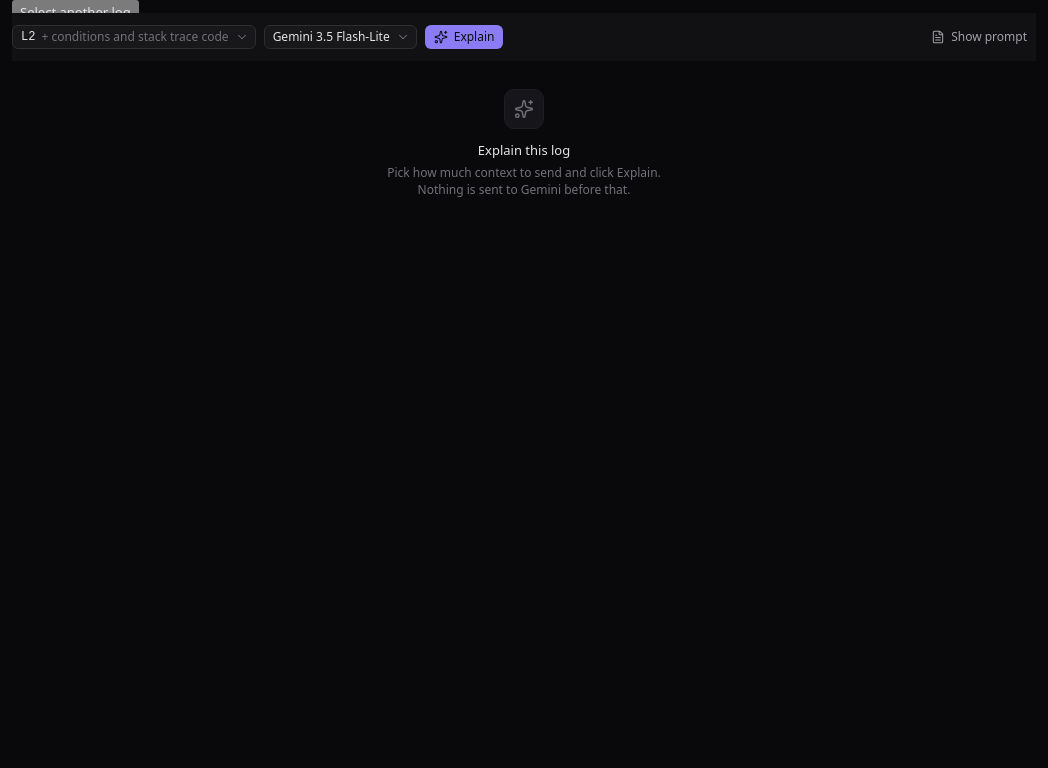
explain tab › "Stop" aborts the request and keeps the text so far
Click the button "Explain".
click(464, 37)  # box [425,25,504,49]
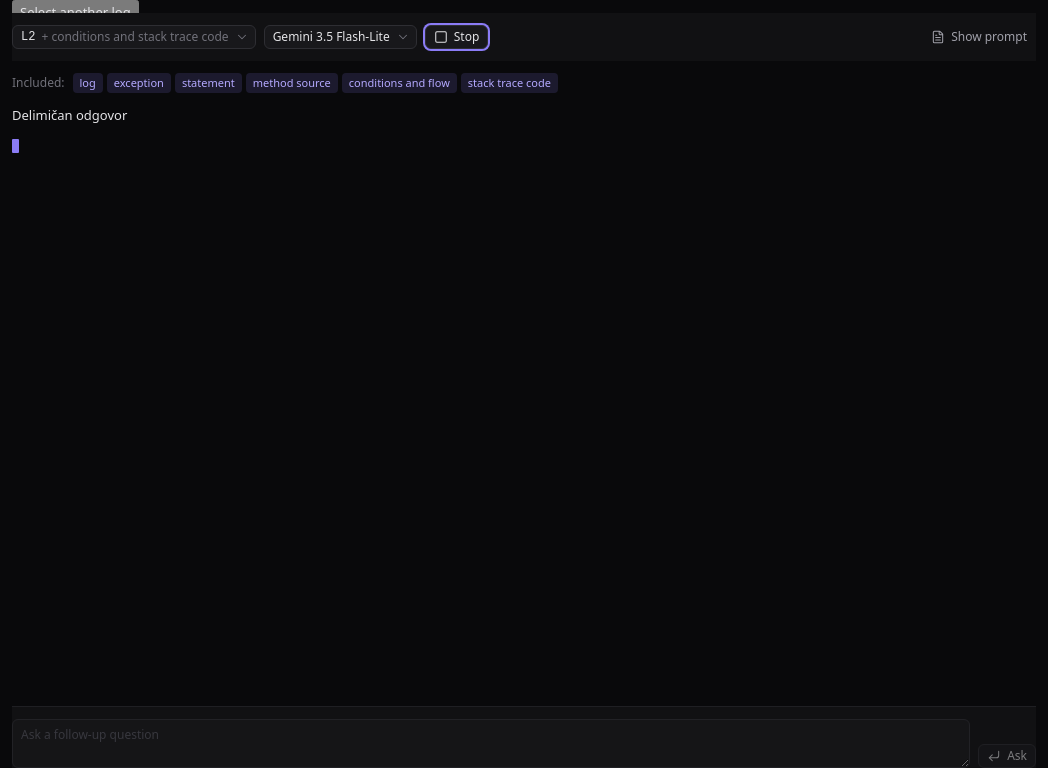
Click the button "Stop".
click(456, 37)  # box [425,25,488,49]
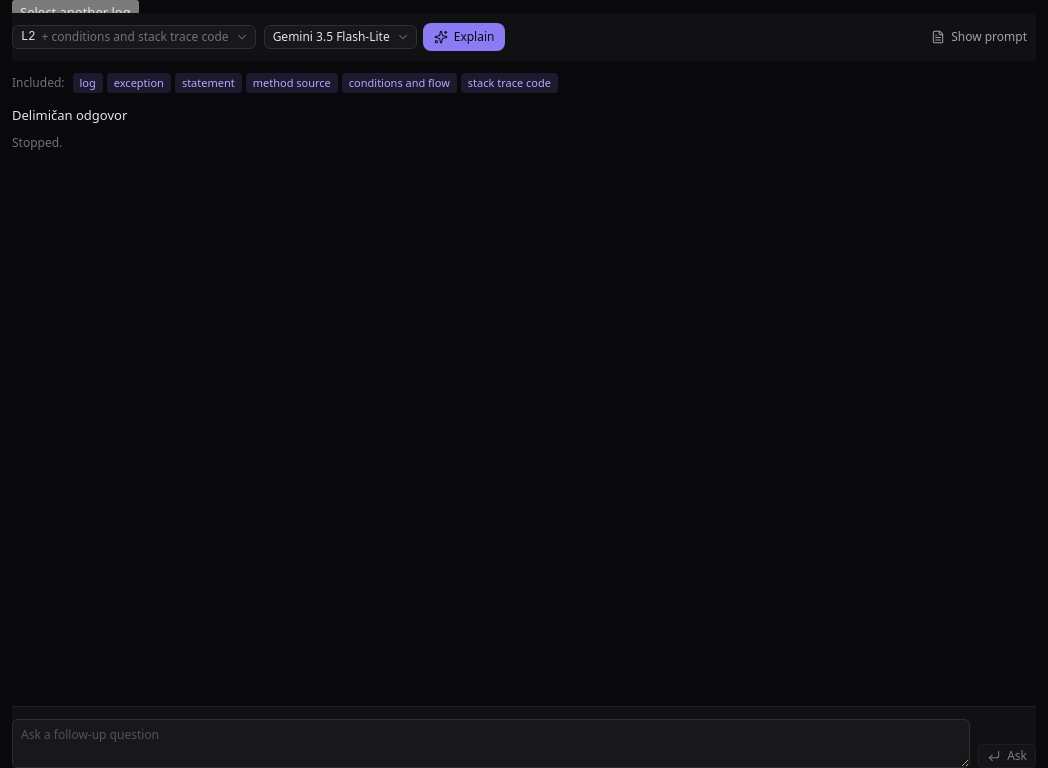
Now the text "Delimičan odgovor" is shown, box [12,106,127,124]
Now the text "Stopped." is shown, box [12,134,62,151]
